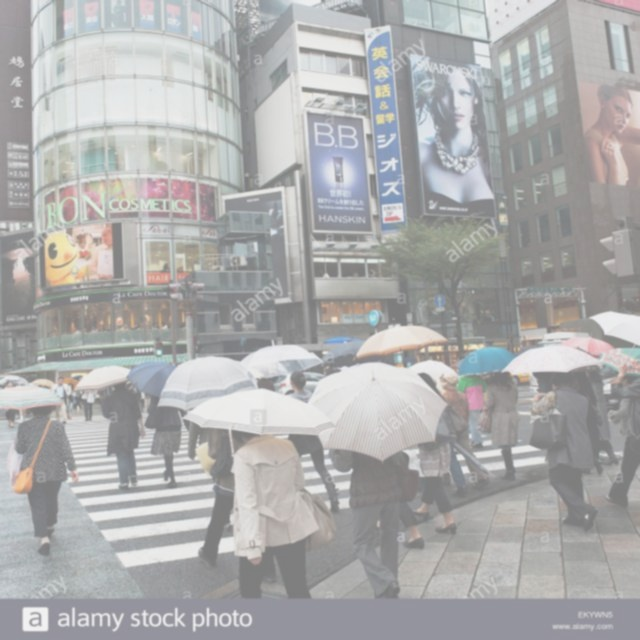pessoa: (228, 427, 336, 599), (411, 55, 496, 218), (327, 448, 417, 600), (528, 366, 600, 532), (14, 404, 80, 556), (286, 370, 340, 513), (412, 372, 458, 536), (196, 426, 248, 569), (438, 370, 492, 490), (582, 81, 639, 186), (102, 381, 146, 489), (478, 370, 520, 480), (182, 386, 234, 471), (382, 450, 426, 550), (146, 393, 192, 488), (44, 226, 121, 282), (604, 397, 640, 508), (438, 372, 470, 496), (570, 371, 604, 476), (585, 369, 620, 465), (608, 360, 640, 454), (456, 374, 488, 448), (49, 376, 72, 424), (526, 370, 572, 390), (426, 304, 482, 320), (97, 374, 116, 417), (324, 354, 356, 374), (106, 0, 128, 29), (61, 382, 76, 420), (5, 381, 17, 428), (252, 374, 280, 394), (16, 382, 30, 420), (80, 389, 96, 422), (139, 388, 150, 413), (72, 390, 84, 410), (46, 330, 72, 338), (484, 306, 496, 322), (106, 323, 116, 342), (0, 384, 5, 412), (404, 359, 420, 366), (450, 362, 461, 372), (162, 262, 171, 272), (72, 326, 83, 334), (120, 324, 130, 332), (149, 322, 158, 330), (132, 322, 141, 330), (98, 324, 106, 332), (90, 326, 100, 332), (160, 322, 168, 329), (37, 385, 50, 389), (179, 322, 186, 328), (84, 328, 88, 334)
